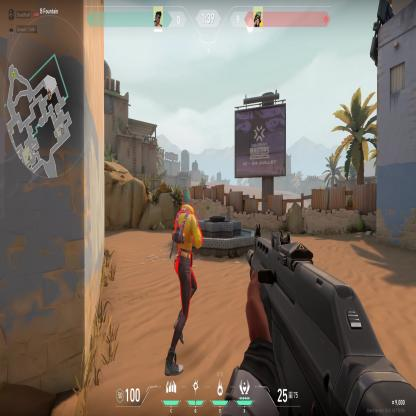enemy: (162, 182, 204, 376)
